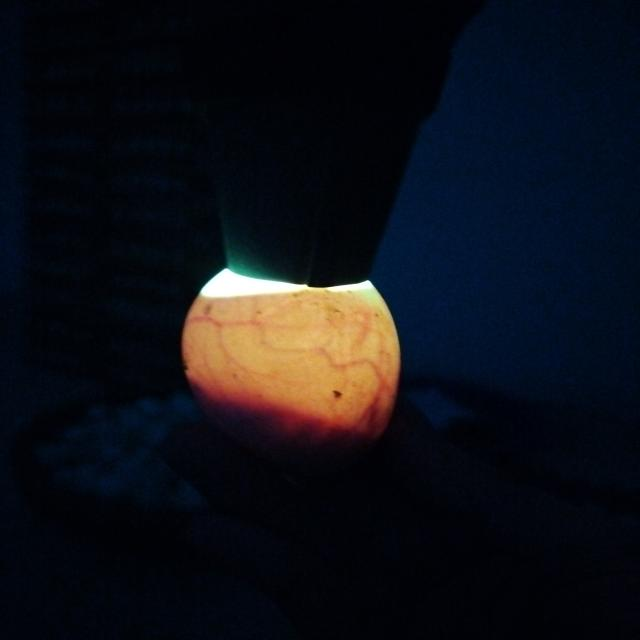Embriao: (187, 381, 390, 477)
